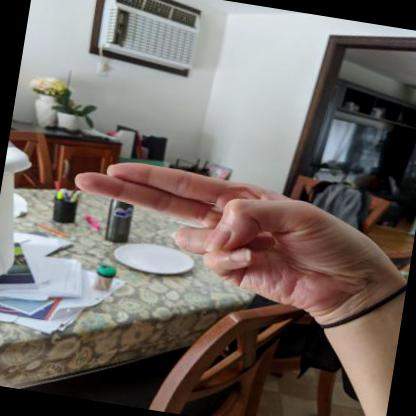H: (74, 162, 375, 320)
